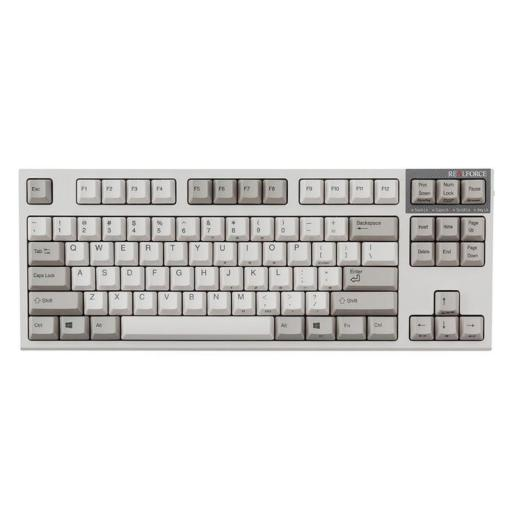KEYBOARD-2: (20, 168, 493, 350)
